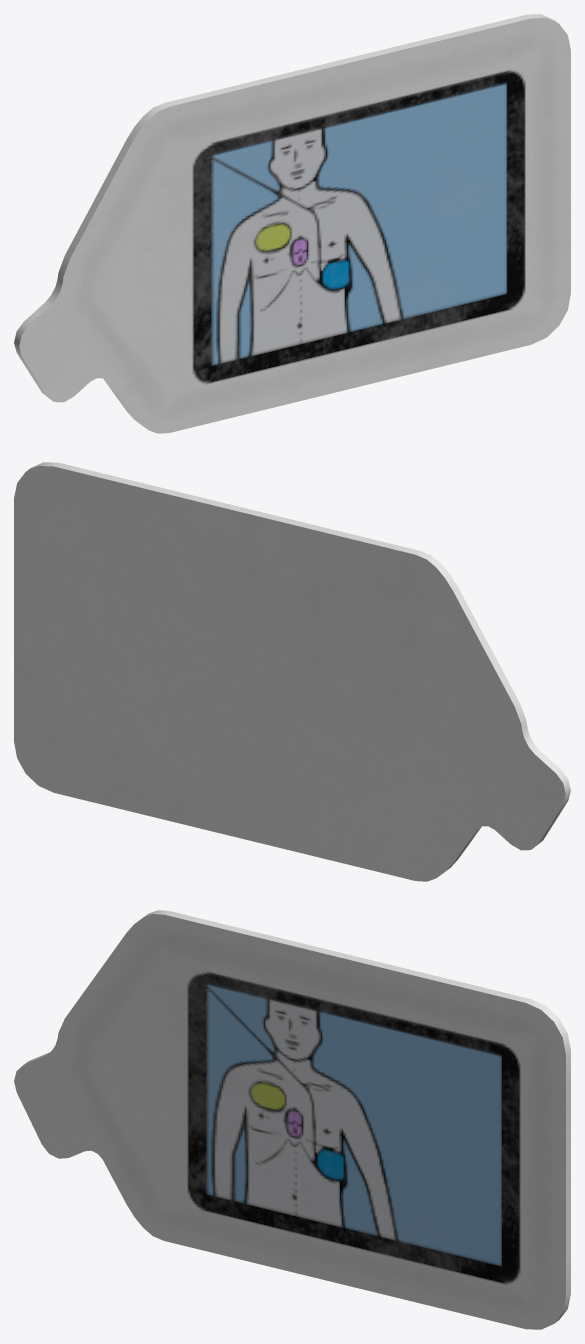
Rendered from BCMM_AppliedAEDLower.fbx.
The picture shows the model from 3 angles, top to bottom: view 1: azimuth 30°, elevation 25°; view 2: azimuth 150°, elevation 25°; view 3: azimuth 330°, elevation 25°; orthographic projection.
Visible parts, largest first — view 1: BCMM_AppliedAEDLower; view 2: BCMM_AppliedAEDLower; view 3: BCMM_AppliedAEDLower.
Boxes of the visible parts, x1,y1,x2,y2 form: BCMM_AppliedAEDLower: [14, 14, 570, 433]; BCMM_AppliedAEDLower: [14, 462, 570, 881]; BCMM_AppliedAEDLower: [14, 910, 570, 1329].
Size of what is drawn, in the model's own units: 9.5 by 5.37 by 0.1533.
